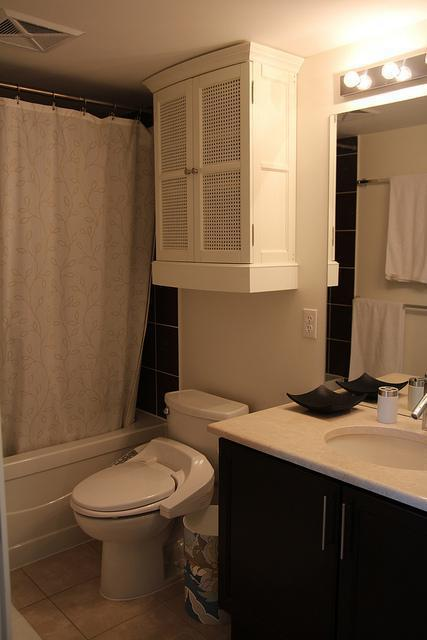Bote de Basura: (184, 497, 252, 626)
Lavamanos: (323, 377, 426, 477)
Sanitario: (64, 377, 252, 600)
